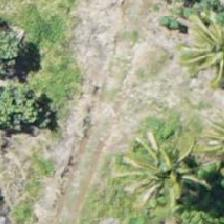coconut_tree: (129, 118, 219, 208), (167, 0, 223, 77)
